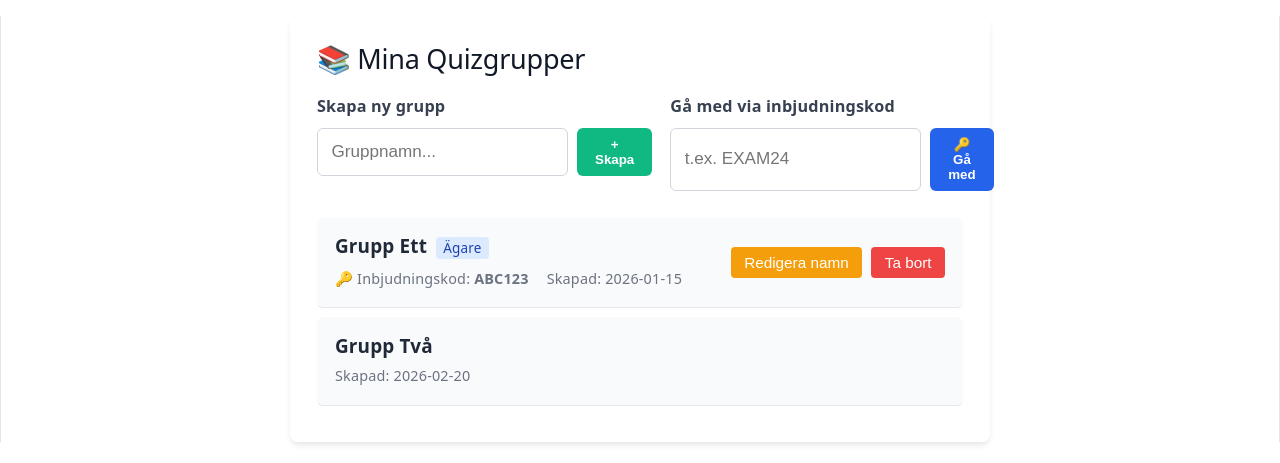
GroupDashboard Component › should open edit mode with current group name
Check: the text "Grupp Ett" is shown, box [335, 233, 427, 259]
What coordinates should you click on to do the following:
click the button "Redigera namn"
I would click on:
 (796, 263)
Its box is [731, 247, 862, 278].
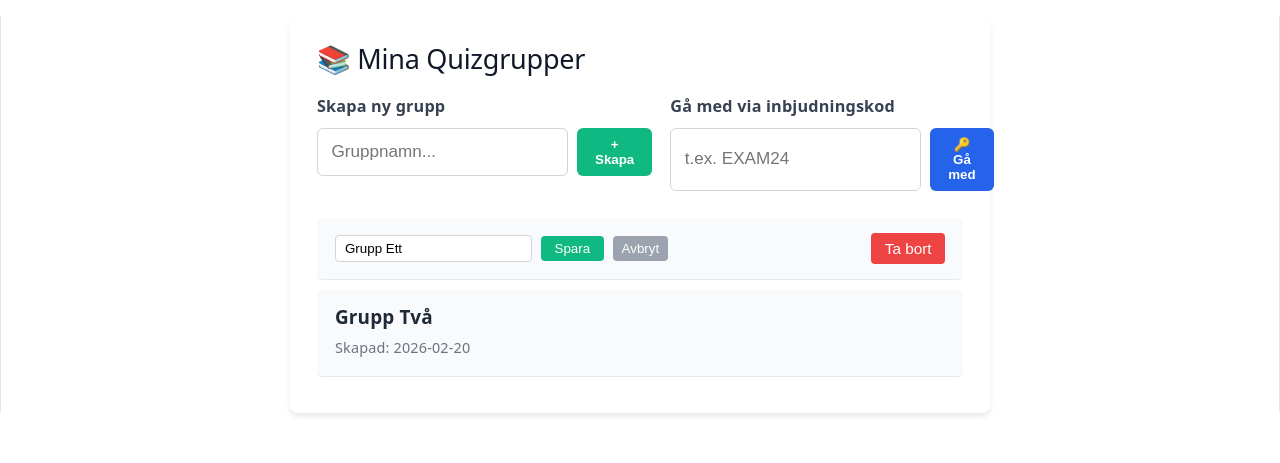
Check: the field showing "Grupp Ett" is shown, box [335, 235, 532, 262]
Check: the button "Spara" is shown, box [541, 236, 604, 262]
